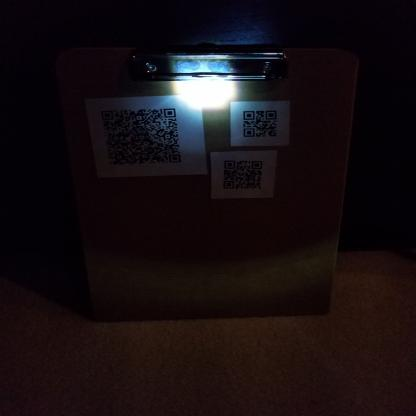qr: (100, 105, 185, 170), (218, 156, 268, 193), (241, 106, 281, 140)
